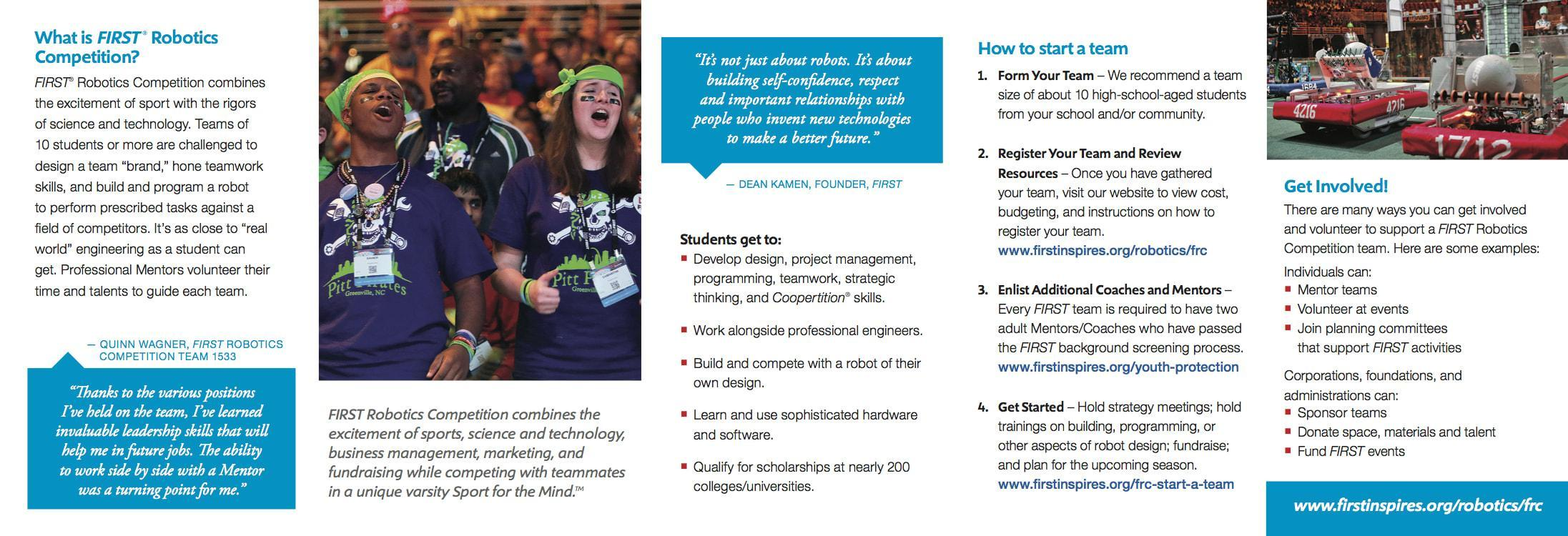robot: (1273, 25, 1431, 142), (1404, 69, 1568, 162)
